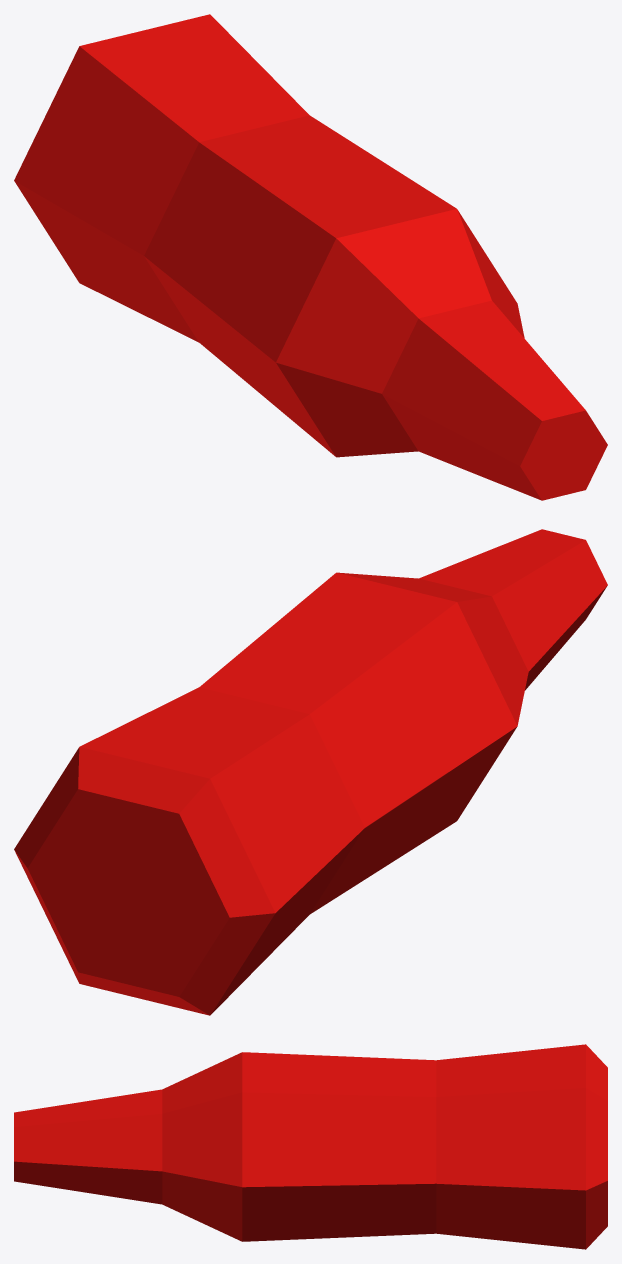
File: TabascoBottleCollider.obj
3 views of the same model, one above another, from view 1: azimuth 30°, elevation 25°; view 2: azimuth 150°, elevation 25°; view 3: azimuth 270°, elevation 25° (orthographic). The views are drawn at different scales.
Parts seen in each view (by area): view 1: sodaBottle.003, sodaBottle.001, sodaBottle.002; view 2: sodaBottle.001, sodaBottle.003, sodaBottle.002; view 3: sodaBottle.003, sodaBottle.001, sodaBottle.002.
Boxes of the visible parts, x1,y1,x2,y2 form: sodaBottle.003: (144, 115, 524, 457); sodaBottle.001: (14, 14, 309, 342); sodaBottle.002: (382, 300, 607, 500); sodaBottle.001: (14, 687, 364, 1015); sodaBottle.003: (199, 572, 528, 914); sodaBottle.002: (419, 529, 607, 690); sodaBottle.003: (162, 1052, 436, 1241); sodaBottle.001: (436, 1044, 607, 1249); sodaBottle.002: (14, 1089, 162, 1204).
Size of the model in its own units: 0.0451 by 0.0391 by 0.1301.
